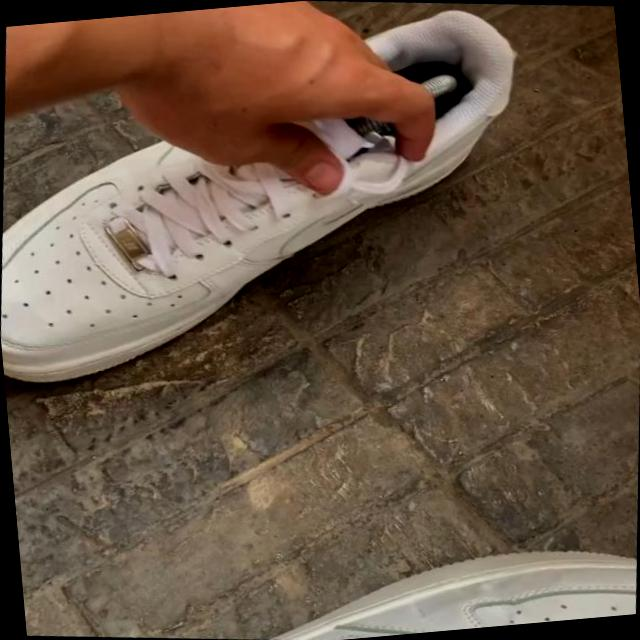nike_fake_airforce: (0, 0, 551, 435)
